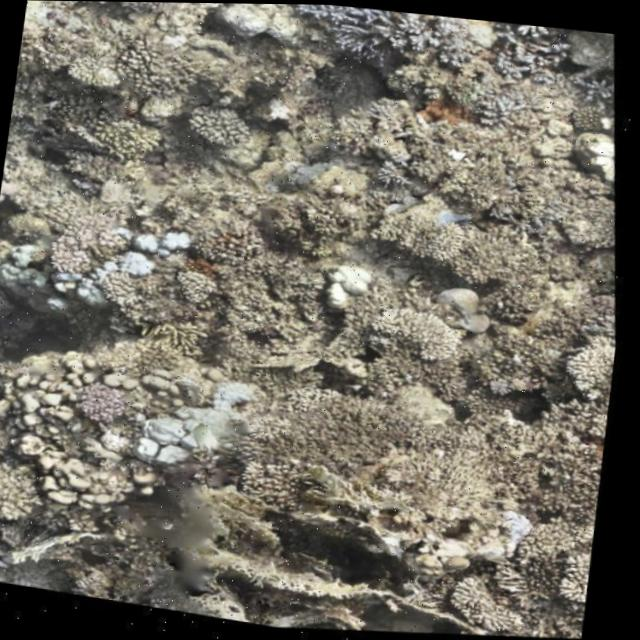Bleached Coral: (290, 3, 488, 94), (0, 256, 123, 331), (132, 406, 220, 488), (498, 21, 578, 87), (108, 218, 198, 272), (314, 257, 385, 322), (207, 371, 265, 440), (492, 497, 543, 562), (0, 238, 60, 287), (100, 251, 167, 286)
